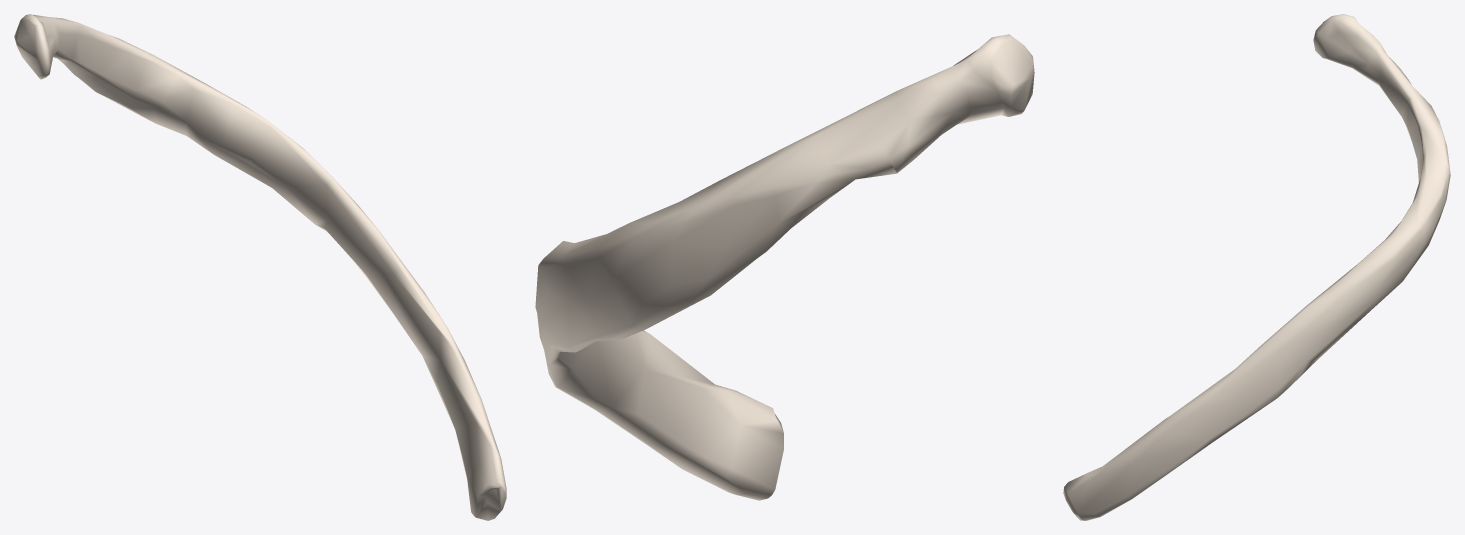
File: left_rib_9.glb
The picture shows the model from 3 angles, left to right: view 1: azimuth 30°, elevation 25°; view 2: azimuth 150°, elevation 25°; view 3: azimuth 270°, elevation 25°; orthographic projection. The views are drawn at different scales.
Parts seen in each view (by area): view 1: Rib (9th).r; view 2: Rib (9th).r; view 3: Rib (9th).r.
Part boxes in pixels (box(x1,y1,x2,y2)): Rib (9th).r: box(14, 14, 506, 520); Rib (9th).r: box(535, 34, 1034, 500); Rib (9th).r: box(1063, 14, 1450, 520).
Bounding box in the file's own units: 0.0869 × 0.1137 × 0.1036.
